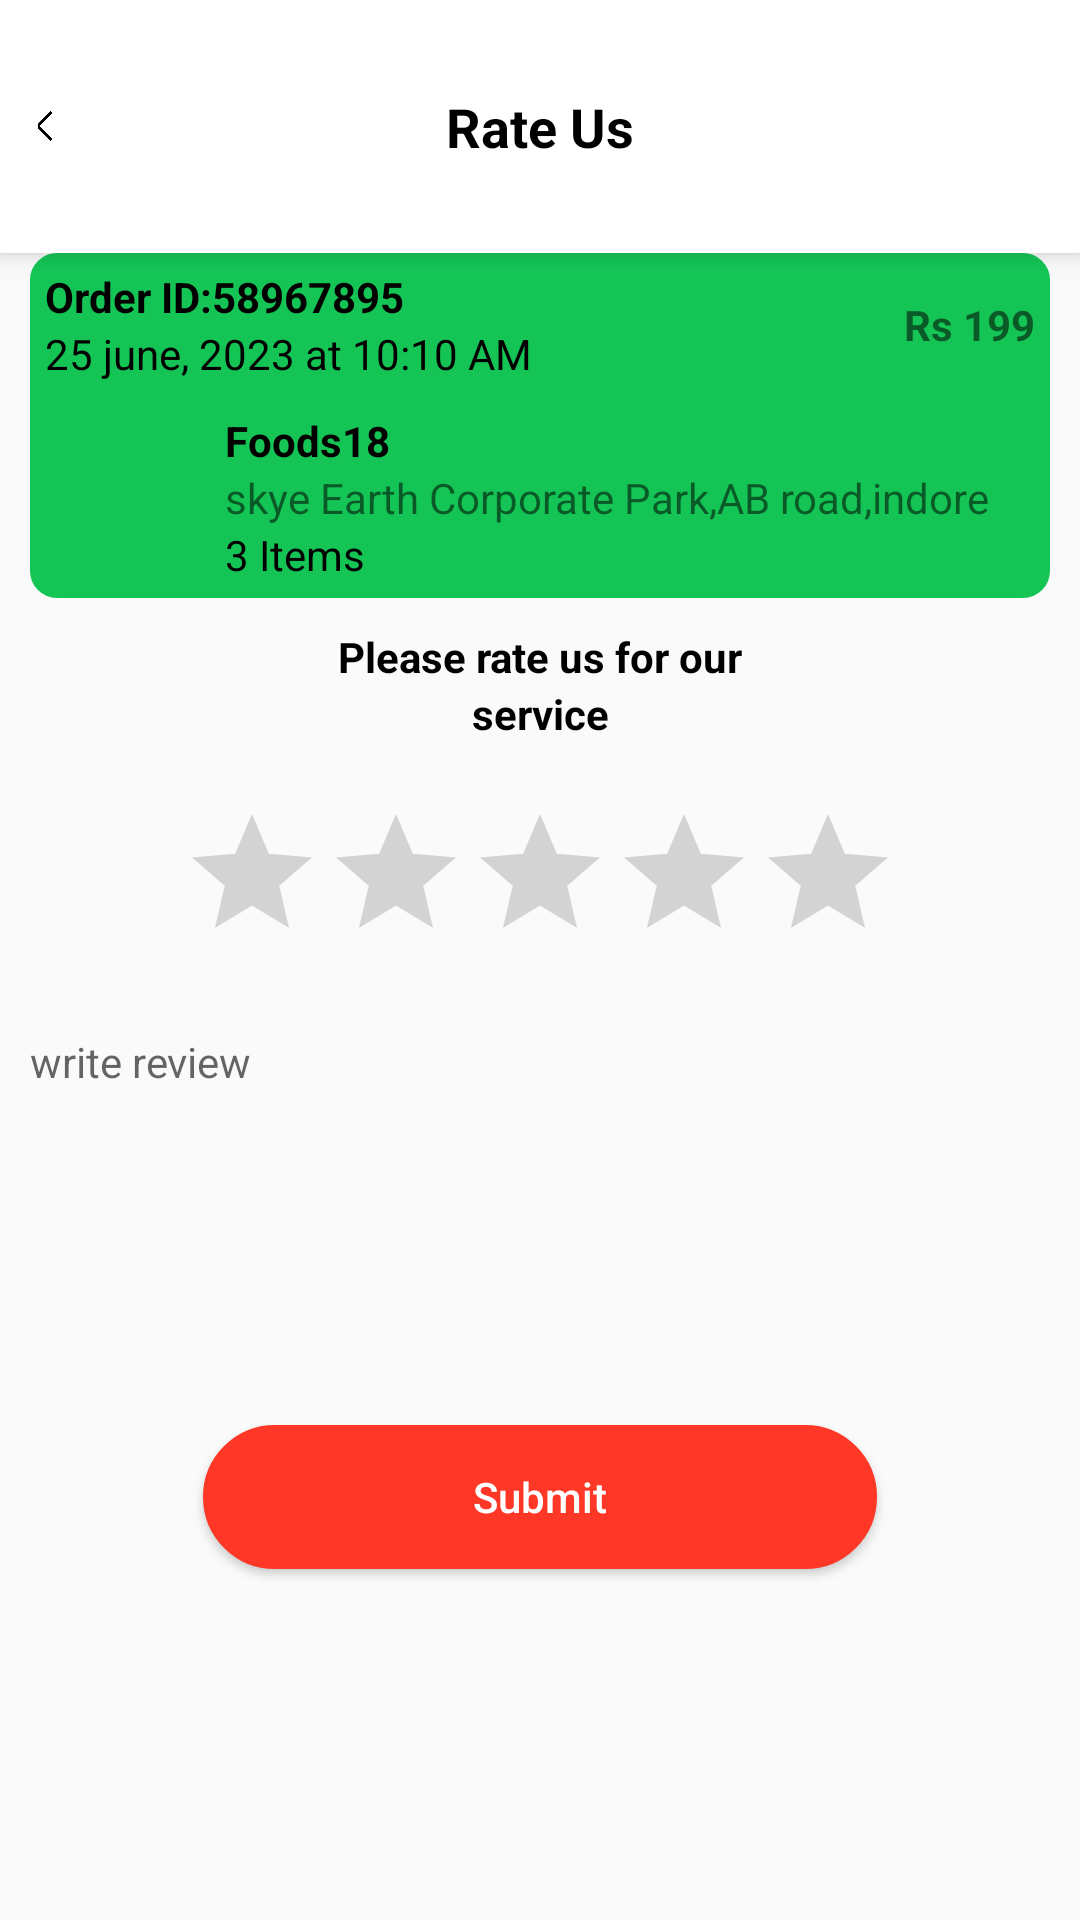

Icons on this 1080px x 1920px Android screen, each with the point to tap as (x,y):
back: (45,126)
